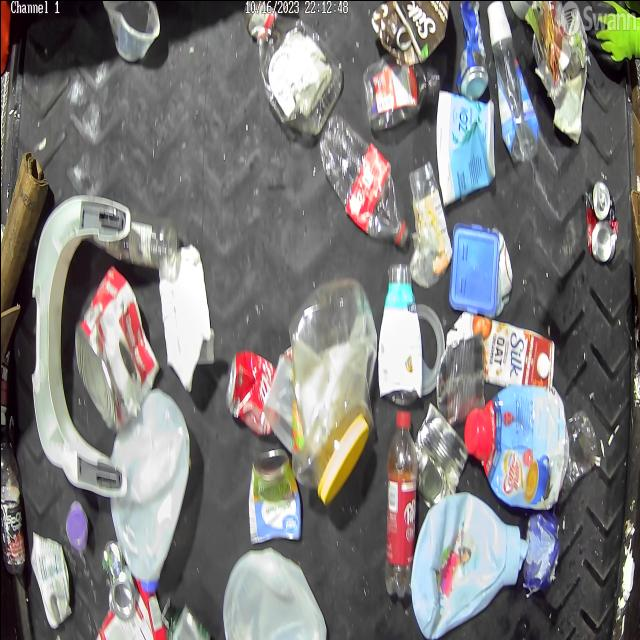can: (74, 264, 158, 430), (415, 398, 467, 506), (248, 446, 302, 546), (435, 330, 485, 426), (226, 346, 277, 434), (454, 0, 488, 100), (584, 182, 616, 264), (102, 540, 134, 620)
milk_jug: (110, 388, 188, 596), (225, 547, 328, 640)
non_white_jug: (411, 493, 525, 636), (467, 384, 569, 509)
plastic_bottle: (318, 113, 410, 247), (362, 56, 443, 132), (384, 408, 416, 597), (102, 215, 178, 269), (0, 429, 25, 574)
